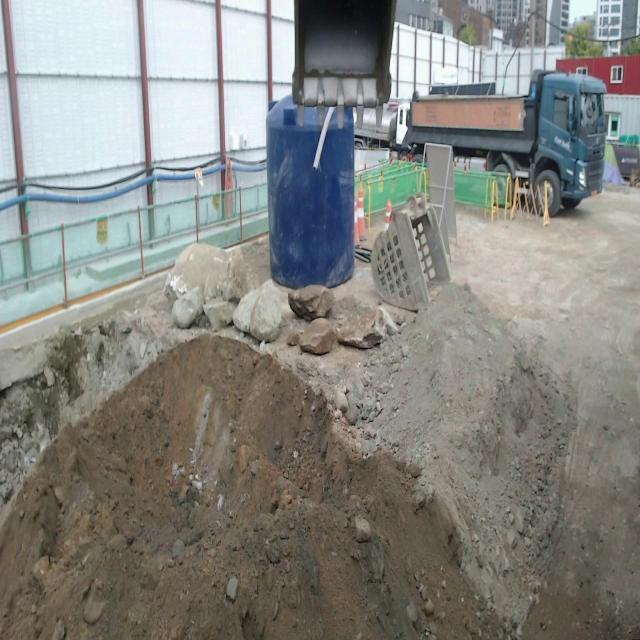red-sand: (0, 335, 500, 639)
rocks: (166, 244, 282, 341)
stone: (165, 244, 230, 303), (232, 280, 283, 341), (335, 306, 392, 349), (223, 247, 254, 302), (288, 285, 335, 321), (298, 318, 337, 355), (172, 287, 203, 328), (203, 298, 236, 329)
white-sand: (360, 284, 575, 631)
